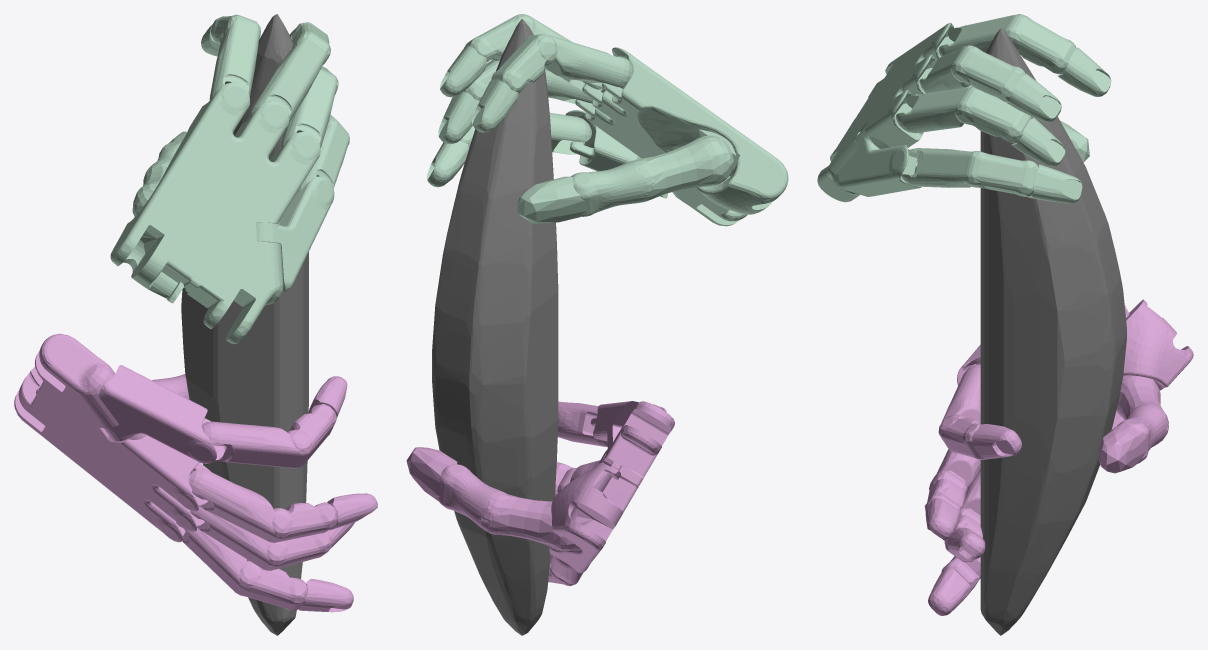
File: Fruit.glb
3 renders of one model, left to right at view 1: azimuth 30°, elevation 25°; view 2: azimuth 150°, elevation 25°; view 3: azimuth 270°, elevation 25°, orthographic. The views are drawn at different scales.
Parts seen in each view (by area): view 1: world; view 2: world; view 3: world.
Part boxes in pixels (x1,y1,x2,y2): world: [14, 14, 377, 635]; world: [406, 14, 788, 635]; world: [817, 14, 1193, 635].
Bounding box in the file's own units: 0.1681 × 0.3477 × 0.1951.
